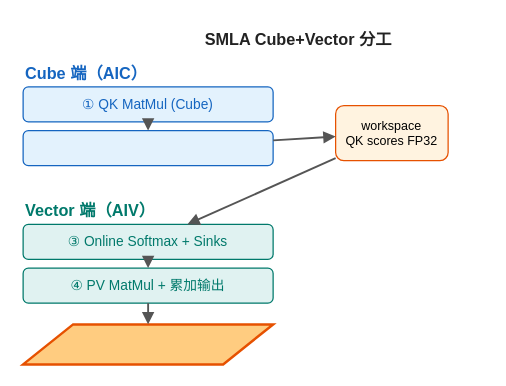
This 506x386 diagram has some shape labels left out. Here are the shapes that lost their labels. From the top down, the centre of each, then its label:
the point at 147,147: ② S2 分块循环加载 KV
the point at 147,343: attn_out
